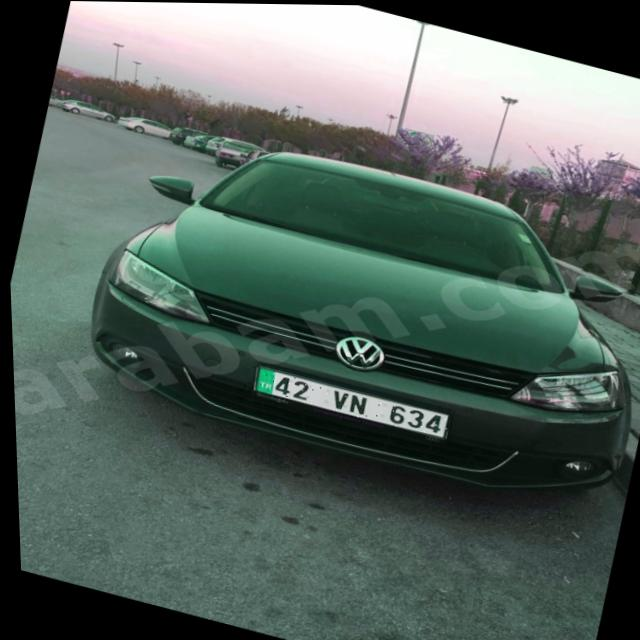license_plate: (250, 364, 447, 439)
